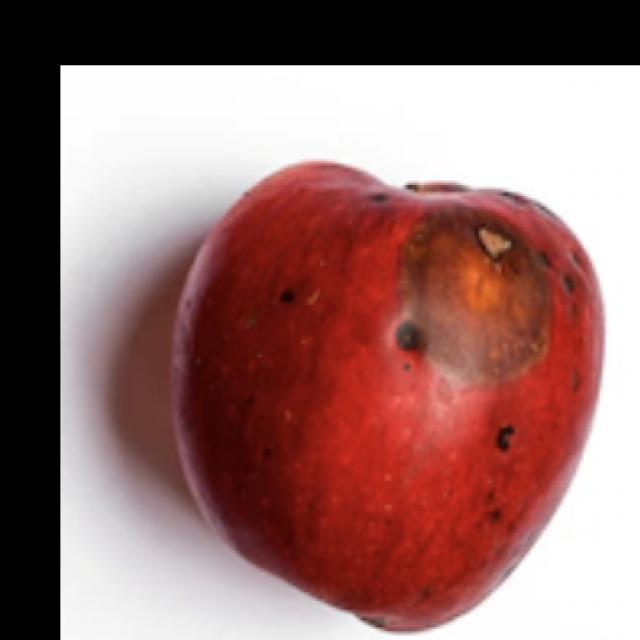Rotten: (157, 150, 619, 640)
